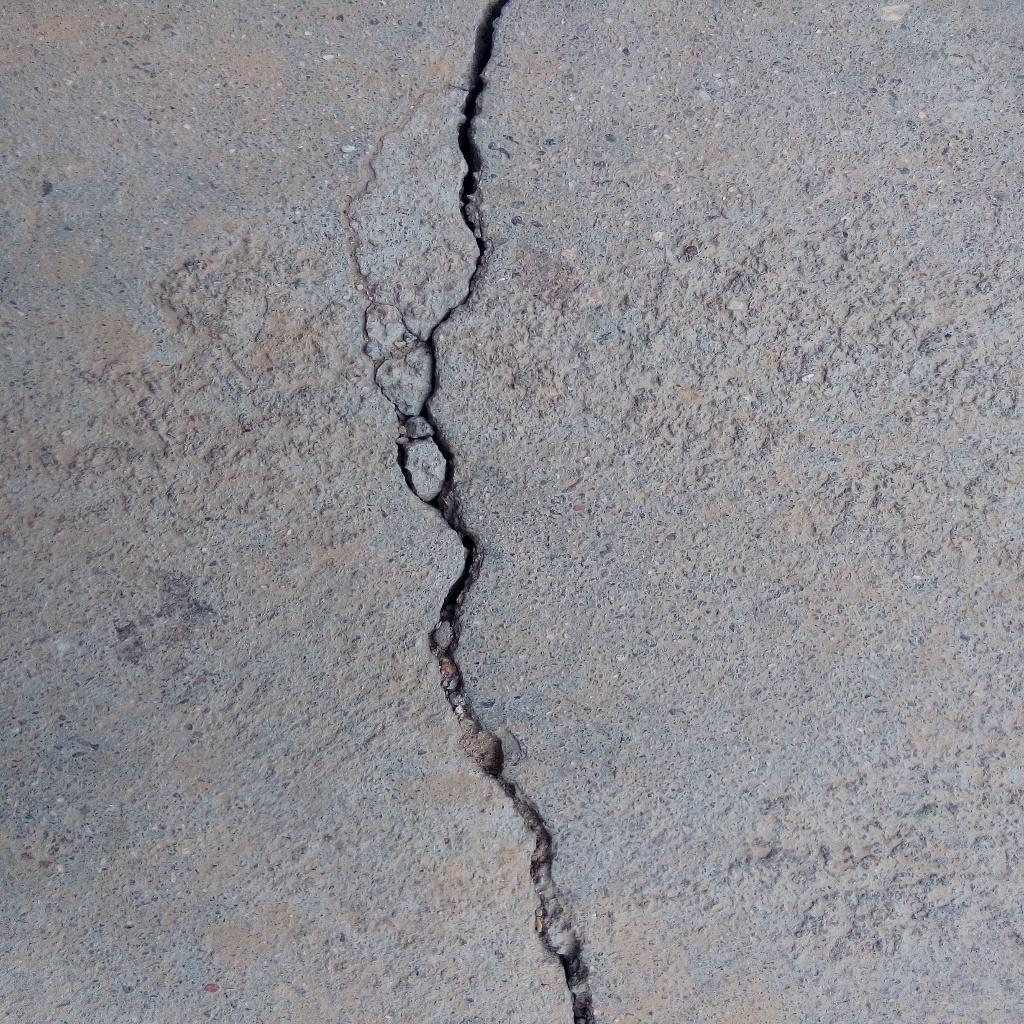Crack: (395, 1, 595, 1024)
